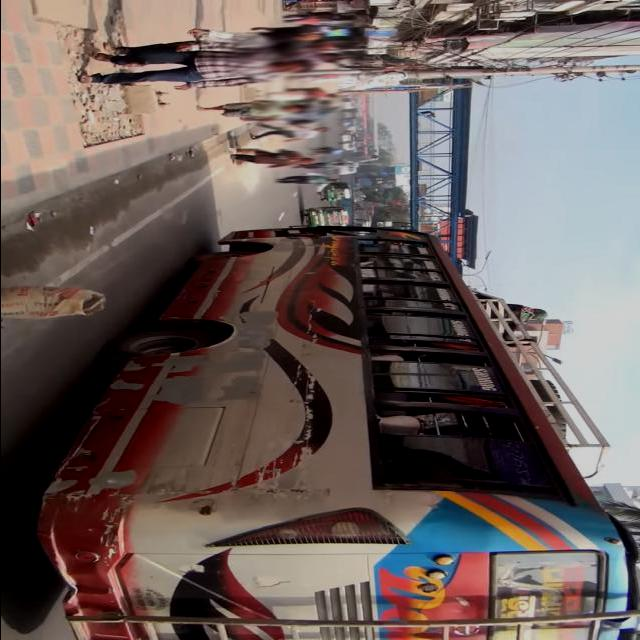bus: (33, 227, 640, 640)
